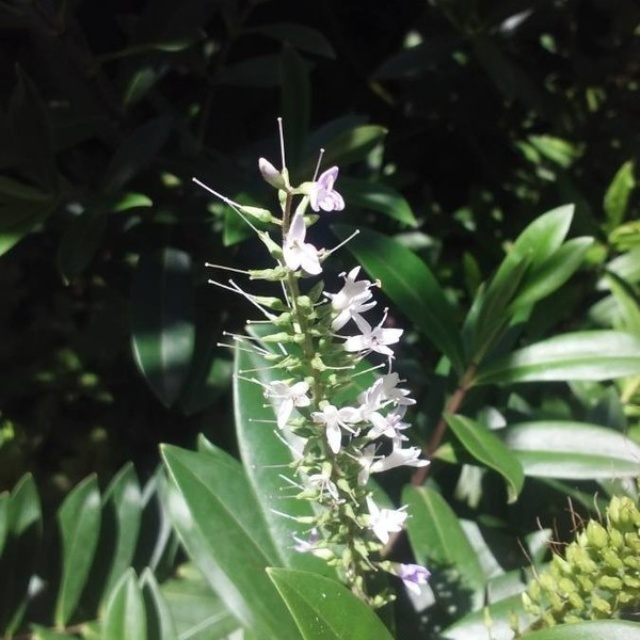obstacle: (166, 137, 605, 637)
